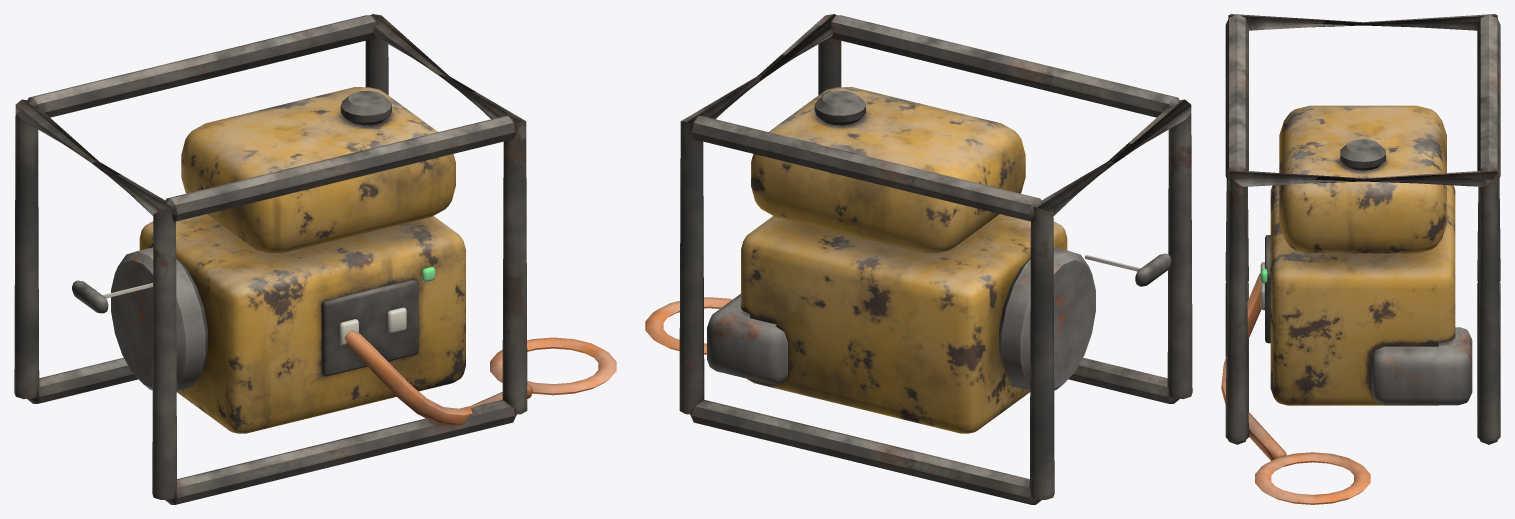
The model's file is generator.fbx.
3 views of the same model, side by side, from view 1: azimuth 30°, elevation 25°; view 2: azimuth 150°, elevation 25°; view 3: azimuth 270°, elevation 25° (orthographic). The views are drawn at different scales.
Parts seen in each view (by area): view 1: Body, Handle; view 2: Body, Handle; view 3: Body.
Boxes of the visible parts, left/top/right/bottom form: Body: left=14, top=14, right=616, bottom=504; Handle: left=72, top=280, right=152, bottom=313; Body: left=645, top=14, right=1192, bottom=504; Handle: left=1085, top=253, right=1171, bottom=286; Body: left=1221, top=14, right=1500, bottom=504.
Bounding box in the file's own units: 3.24 × 1.86 × 1.67.
1 material, 1 textured.
